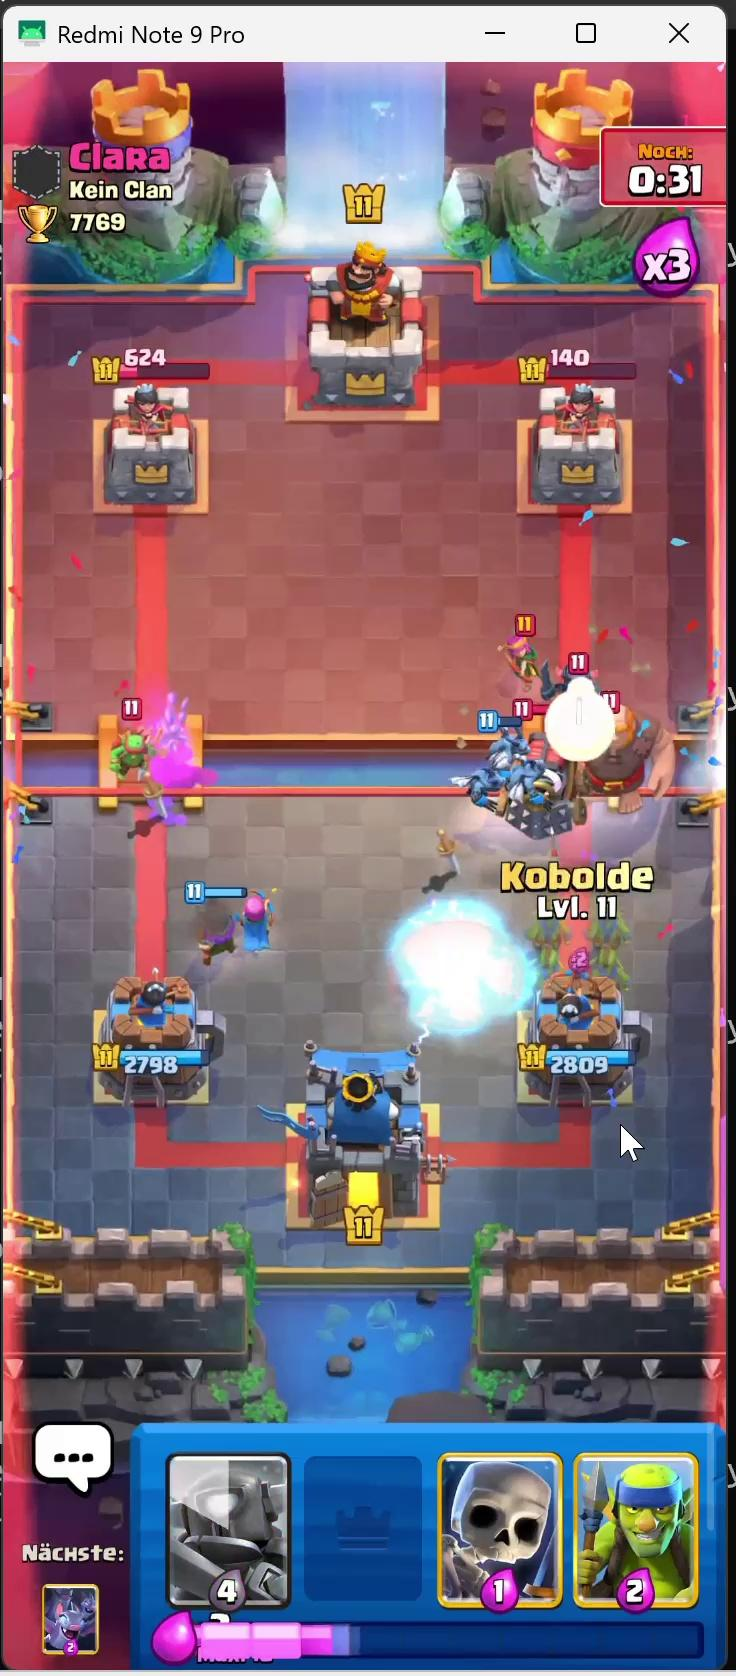archere: (500, 623, 543, 686), (241, 886, 277, 956)
gargouille: (506, 765, 545, 804), (484, 730, 527, 764), (479, 762, 508, 807)
geant: (558, 709, 663, 819)
gobelin: (114, 723, 168, 776)
mini_PEKKA: (543, 651, 614, 714)
mousquetaire: (195, 894, 238, 959)
zappy: (513, 733, 581, 832)
